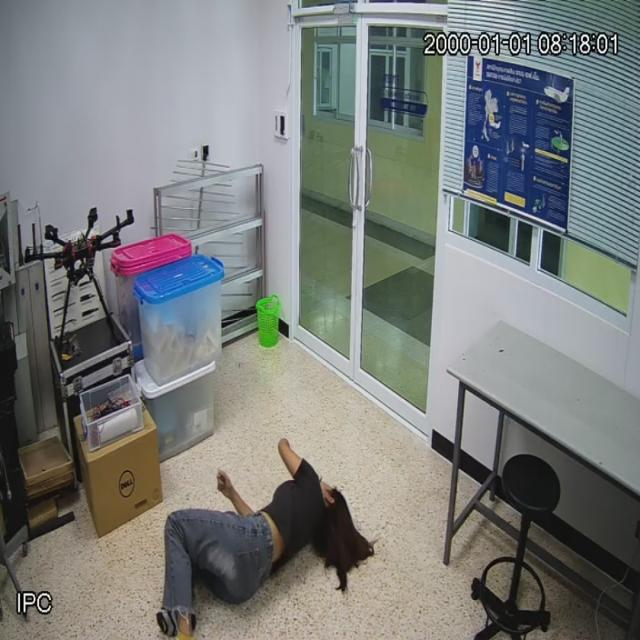fall: (150, 441, 371, 640)
